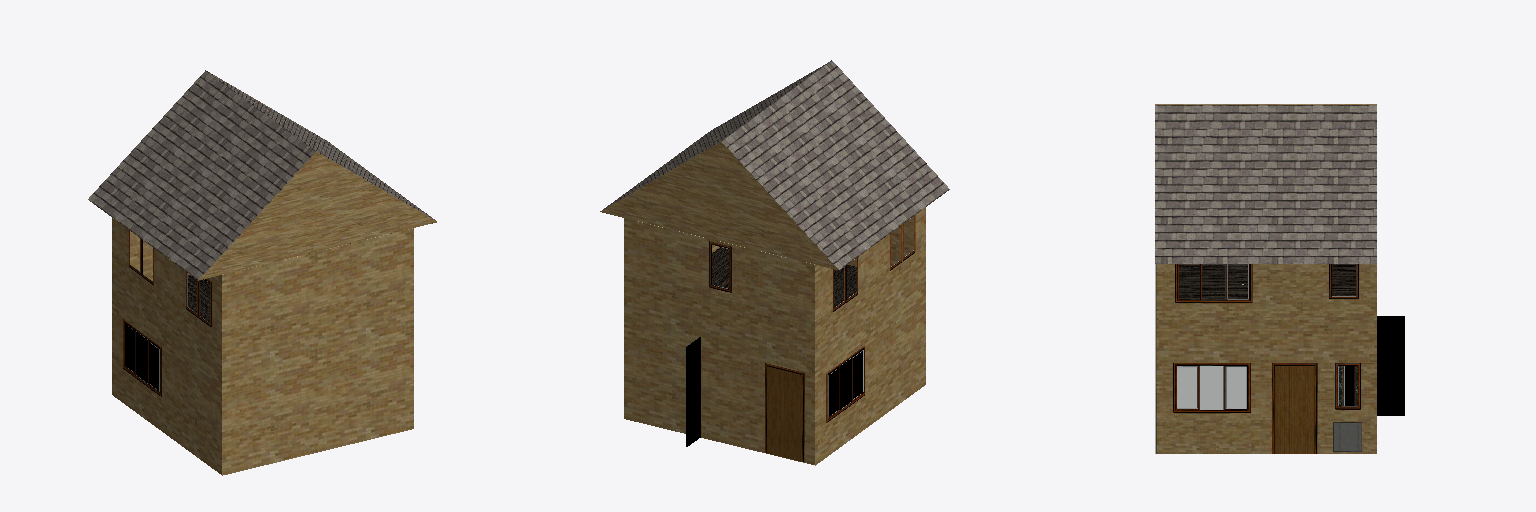
The picture shows the model from 3 angles: view 1: azimuth 30°, elevation 25°; view 2: azimuth 150°, elevation 25°; view 3: azimuth 270°, elevation 25°; orthographic projection.
Parts seen in each view (by area): view 1: pPlane5, pCube1, textureEditorIsolateSelectSet pCube1, pPlane27, pPlane48; view 2: pPlane5, pCube1, pPlane37, pPlane27, pPlane48; view 3: textureEditorIsolateSelectSet pPlane5, pCube1, pPlane48, pPlane40, pPlane14.
Boxes of the visible parts, x1,y1,x2,y2 form: pPlane5: [112, 218, 413, 475]; pCube1: [88, 70, 435, 279]; textureEditorIsolateSelectSet pCube1: [198, 151, 436, 280]; pPlane27: [125, 324, 158, 390]; pPlane48: [188, 275, 209, 322]; pPlane5: [624, 208, 925, 465]; pCube1: [600, 60, 949, 269]; pPlane37: [687, 337, 700, 446]; pPlane27: [829, 351, 862, 416]; pPlane48: [712, 247, 856, 307]; textureEditorIsolateSelectSet pPlane5: [1155, 264, 1376, 453]; pCube1: [1155, 104, 1376, 263]; pPlane48: [1179, 264, 1355, 300]; pPlane40: [1349, 316, 1404, 415]; pPlane14: [1177, 366, 1245, 409].
Size of the model in its own units: 1.25 by 1.5 by 1.13.
43 materials, 13 textured.